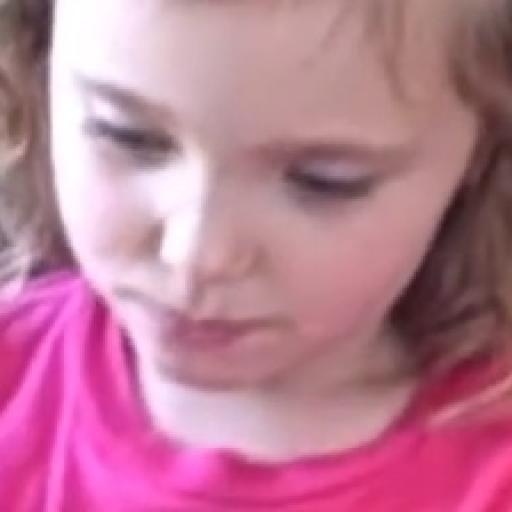Autism: (37, 1, 512, 512)
